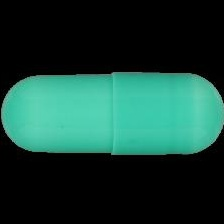51079-190: (0, 0, 224, 224)
